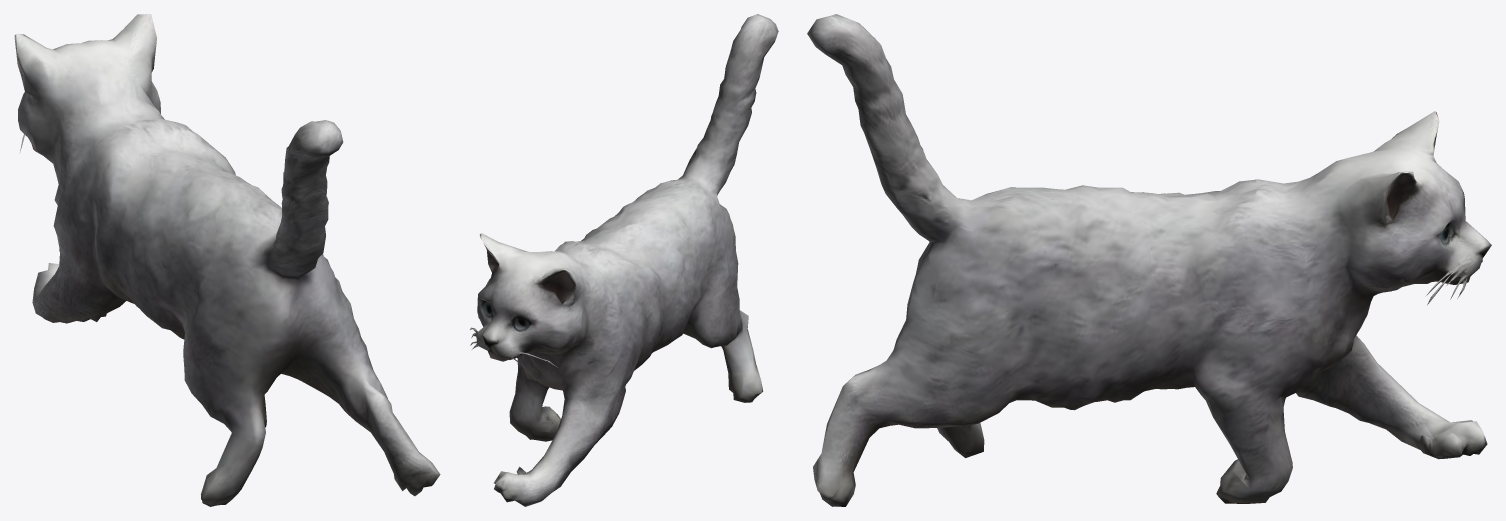
Rendered from katze.glb.
The picture shows the model from 3 angles, left to right: view 1: azimuth 30°, elevation 25°; view 2: azimuth 150°, elevation 25°; view 3: azimuth 270°, elevation 25°; orthographic projection. The views are drawn at different scales.
Parts seen in each view (by area): view 1: tripo_node_b8dab40f-88d7-4e6e-b1a5-5b254fffd4ce; view 2: tripo_node_b8dab40f-88d7-4e6e-b1a5-5b254fffd4ce; view 3: tripo_node_b8dab40f-88d7-4e6e-b1a5-5b254fffd4ce.
Part boxes in pixels (bbox=[...]): tripo_node_b8dab40f-88d7-4e6e-b1a5-5b254fffd4ce: bbox=[14, 14, 440, 506]; tripo_node_b8dab40f-88d7-4e6e-b1a5-5b254fffd4ce: bbox=[470, 14, 778, 506]; tripo_node_b8dab40f-88d7-4e6e-b1a5-5b254fffd4ce: bbox=[807, 14, 1491, 506].
Size of the model in its own units: 0.3274 by 0.7457 by 1.
Materials: 1 (1 with a texture image).
